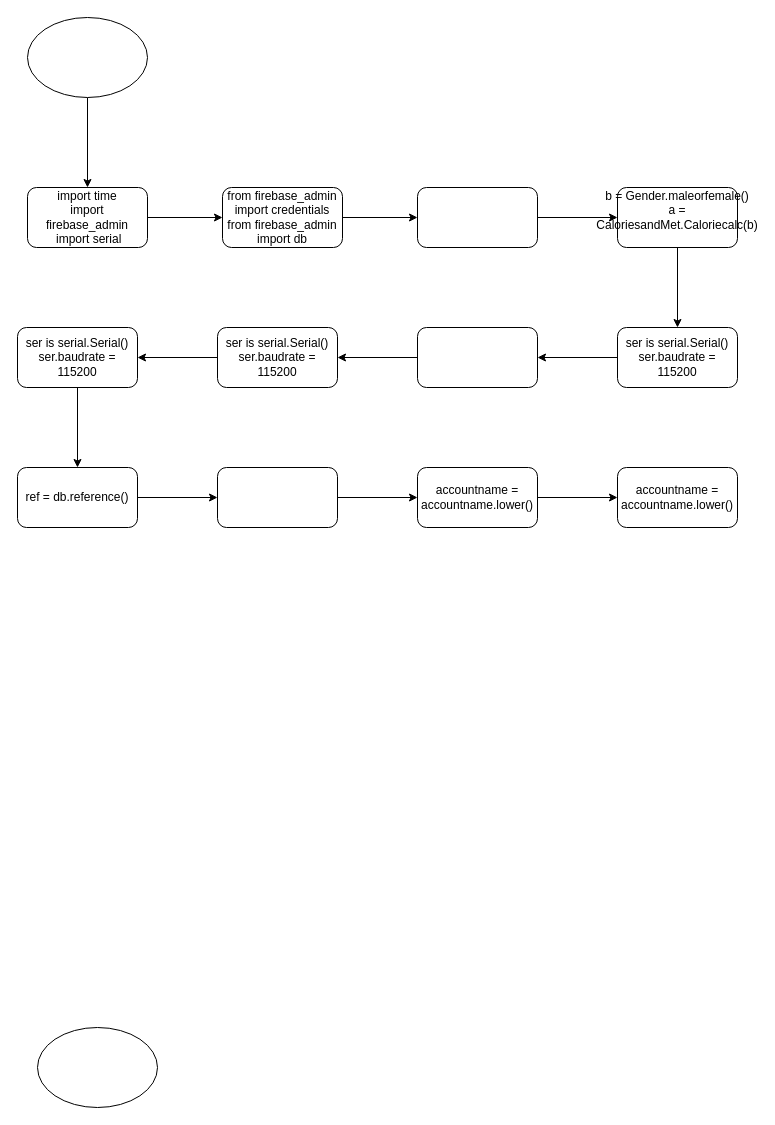
This 775x1125 diagram has some shape labels left out. Each missing label, with the centre of its shape:
accountname = input("\nWhat is your name: ": (x=277, y=497)
import CaloriesandMet (file) import Gender (file): (x=477, y=217)
ser.port = COM14 ser . open(): (x=477, y=357)
start: (x=87, y=57)
